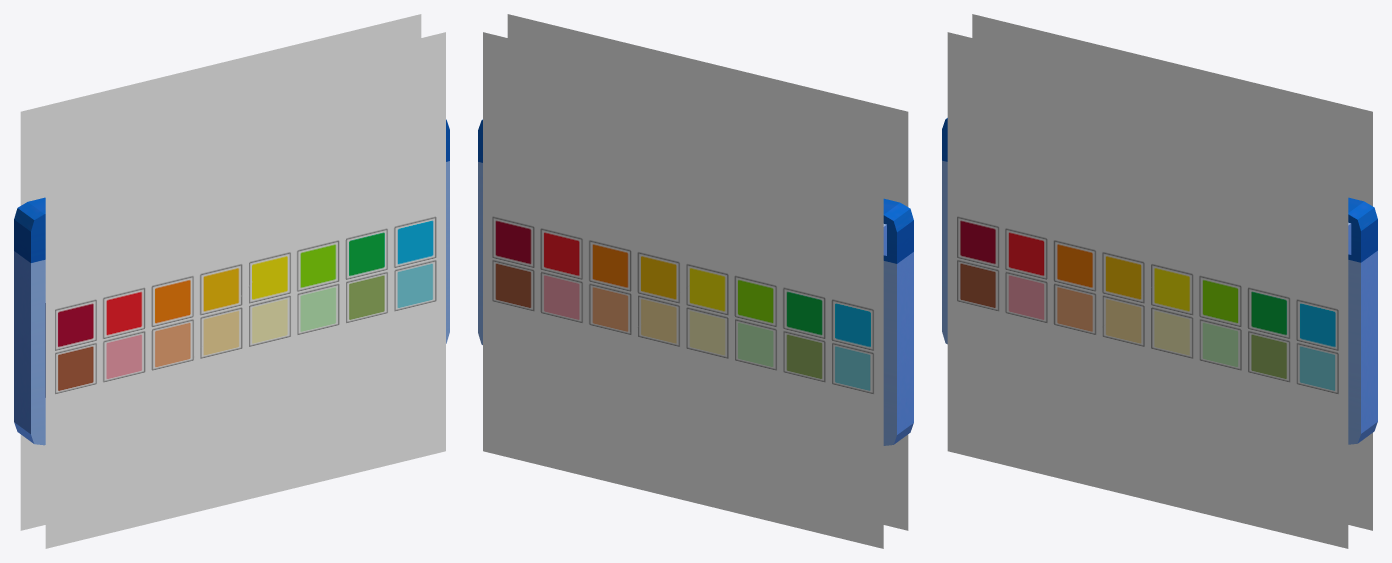
Rendered from SM_ColorsWall.fbx.
The picture shows the model from 3 angles, left to right: view 1: azimuth 30°, elevation 25°; view 2: azimuth 150°, elevation 25°; view 3: azimuth 330°, elevation 25°; orthographic projection.
Parts seen in each view (by area): view 1: SM_ColorsWall; view 2: SM_ColorsWall; view 3: SM_ColorsWall.
Part boxes in pixels (x1,y1,x2,y2): SM_ColorsWall: (14,14,449,548); SM_ColorsWall: (478,14,913,548); SM_ColorsWall: (942,14,1377,548).
Size of the model in its own units: 83.64 by 79.95 by 8.55.
